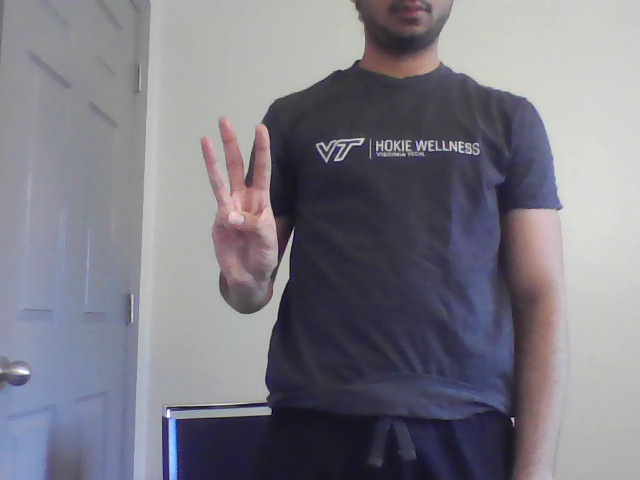three: (194, 114, 284, 286)
